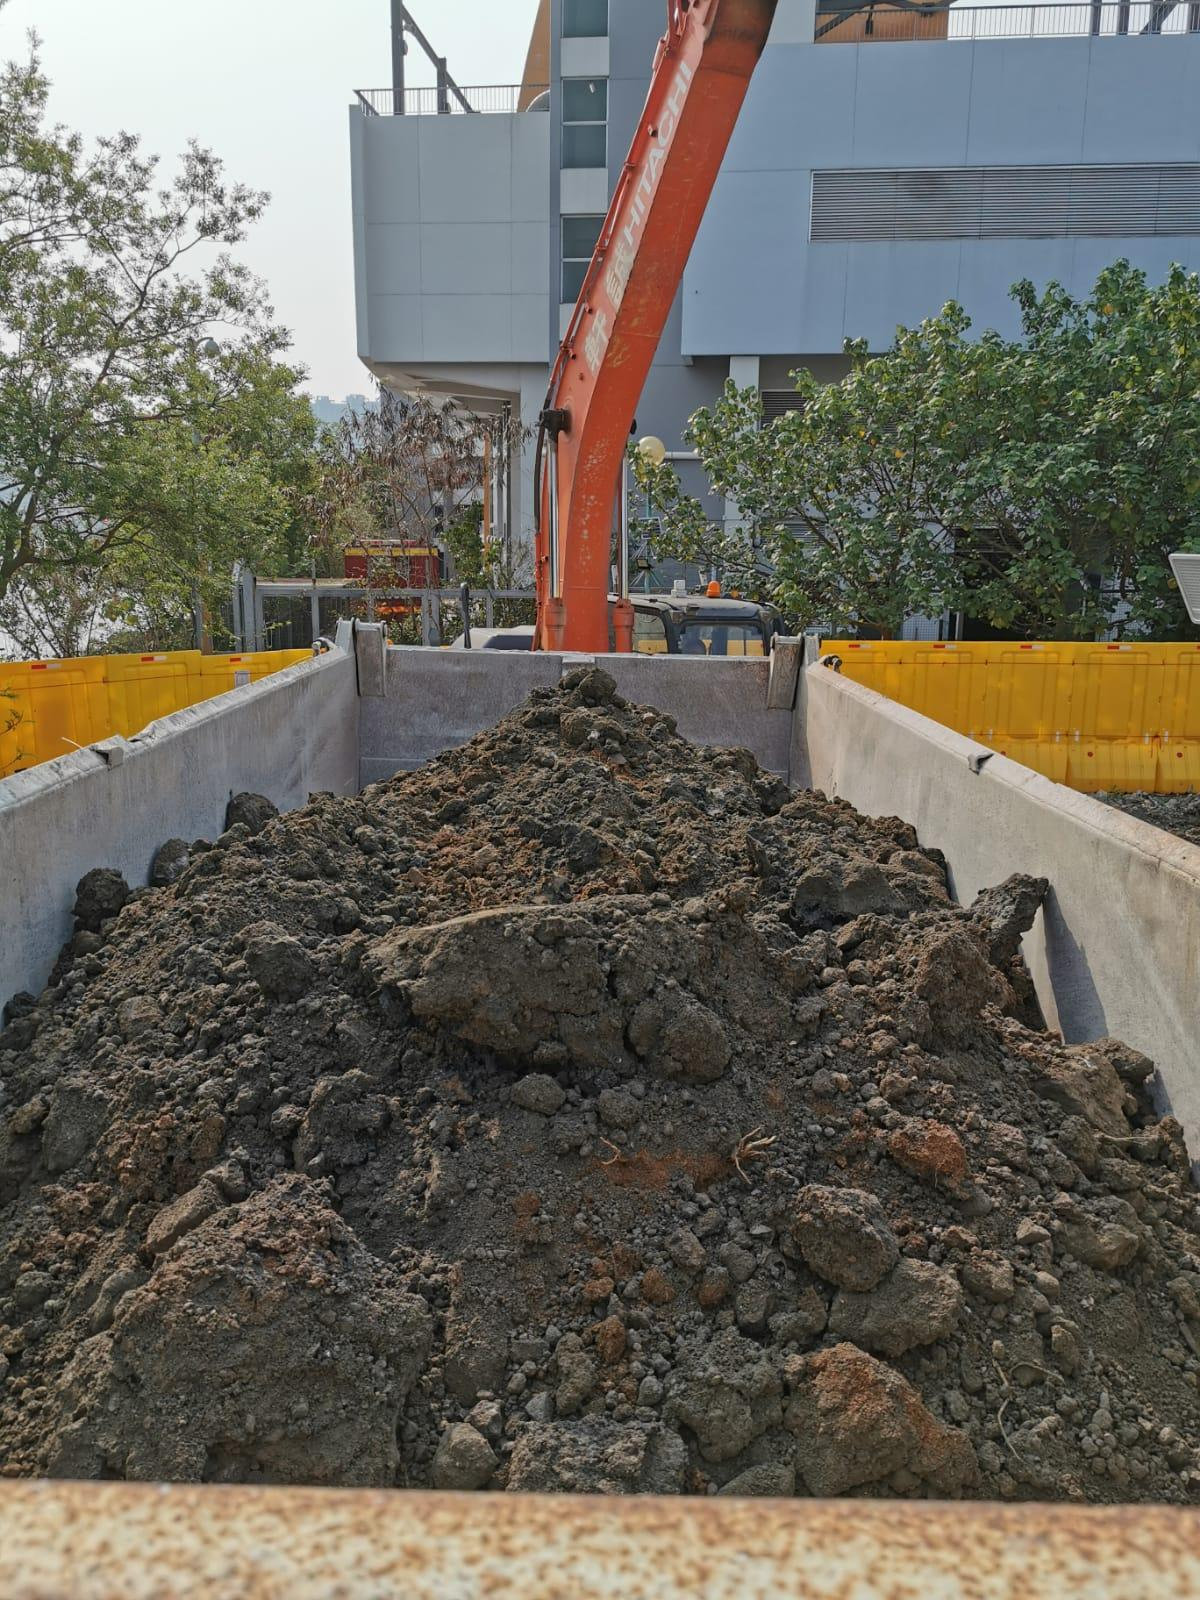wet: (0, 665, 1200, 1492)
